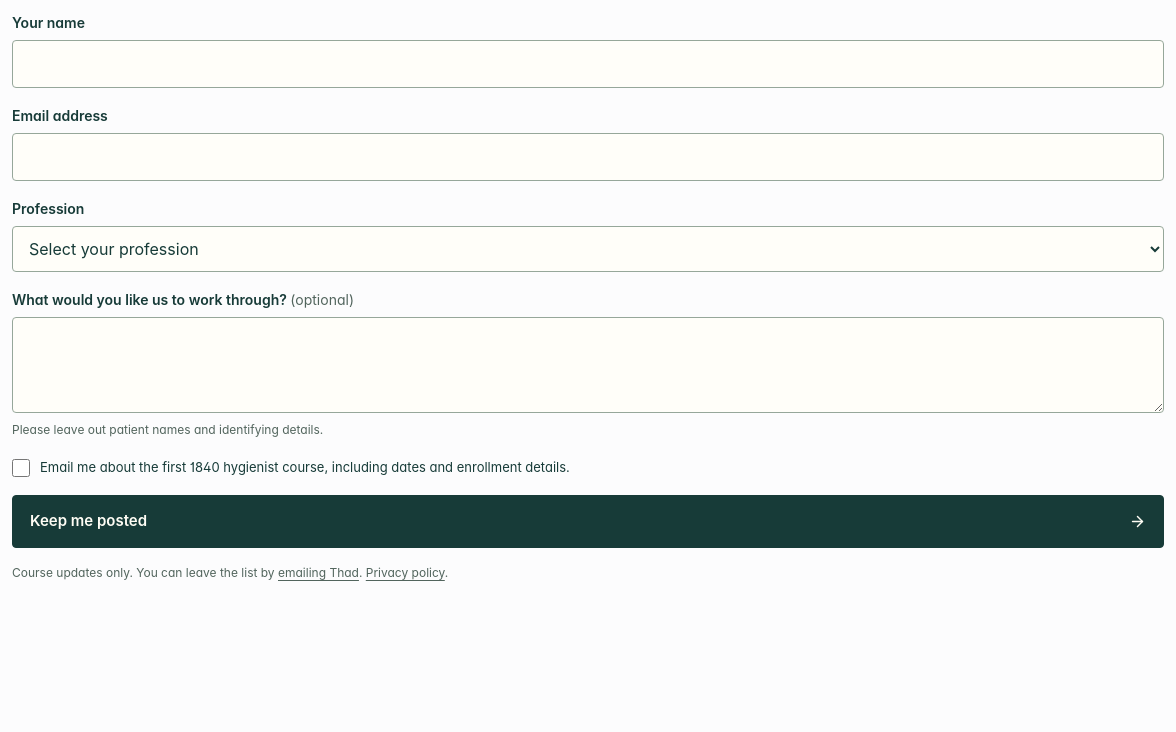
it: joining the first 1840 course interest list › preserves entries and allows retry after an unsuccessful HTTP response
The image size is (1176, 732).
Type "Alex Rivera" into the field labelled "Your name" at (588, 64), box [12,40,1164,88]
Type "alex@example.com" into the field labelled "Email address" at (588, 157), box [12,133,1164,181]
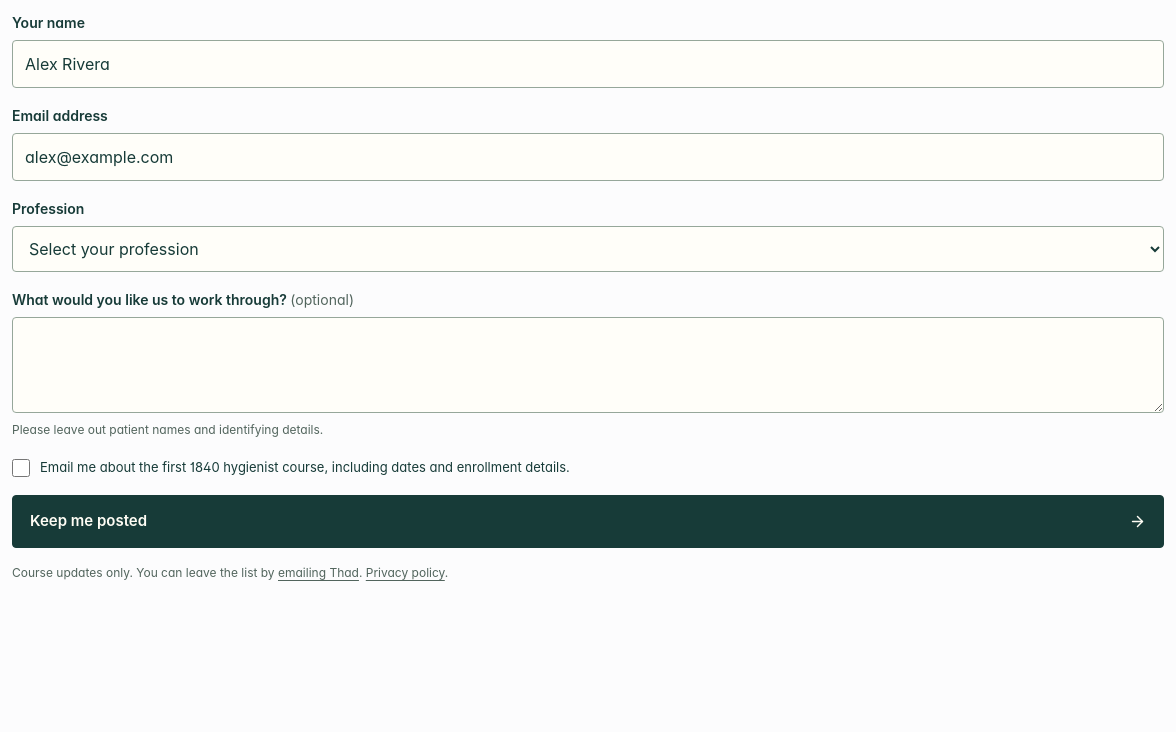
Select "Dental hygienist" in the dropdown labelled "Profession" at (588, 249), box [12,226,1164,272]
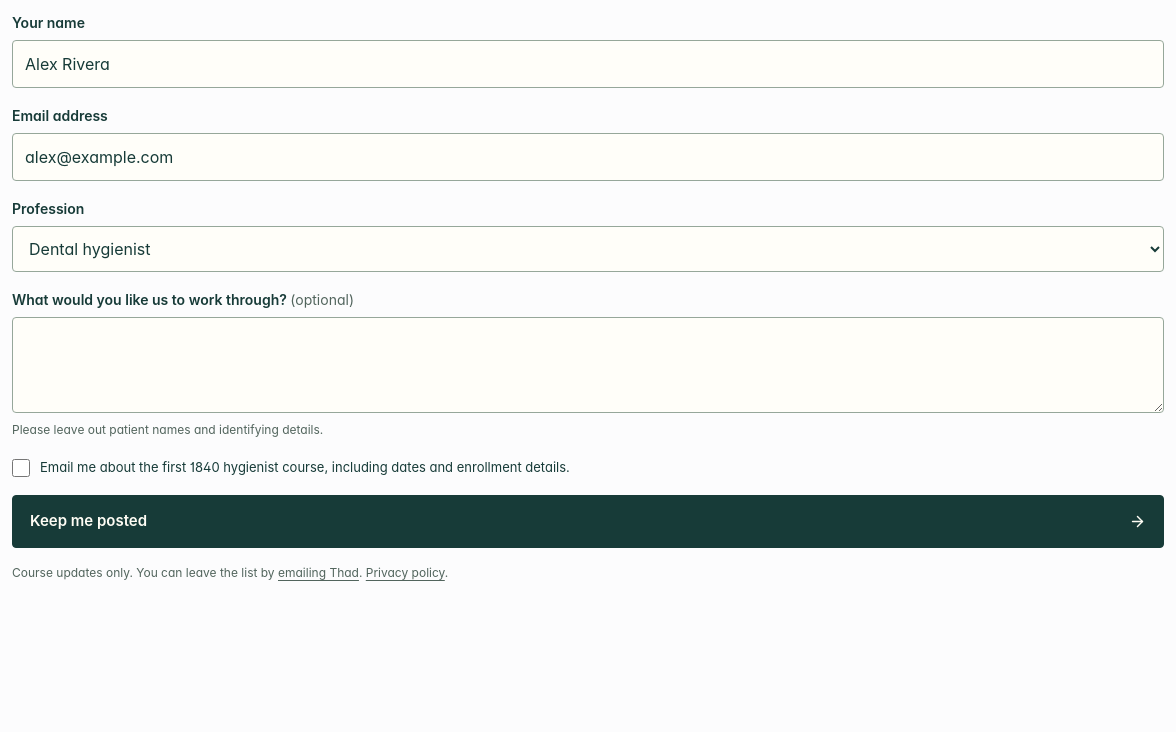
Type "How do we get a concern followed up between recall visits?" into the text box labelled "What would you like us to work through? (optional)" at (588, 365), box [12,317,1164,413]
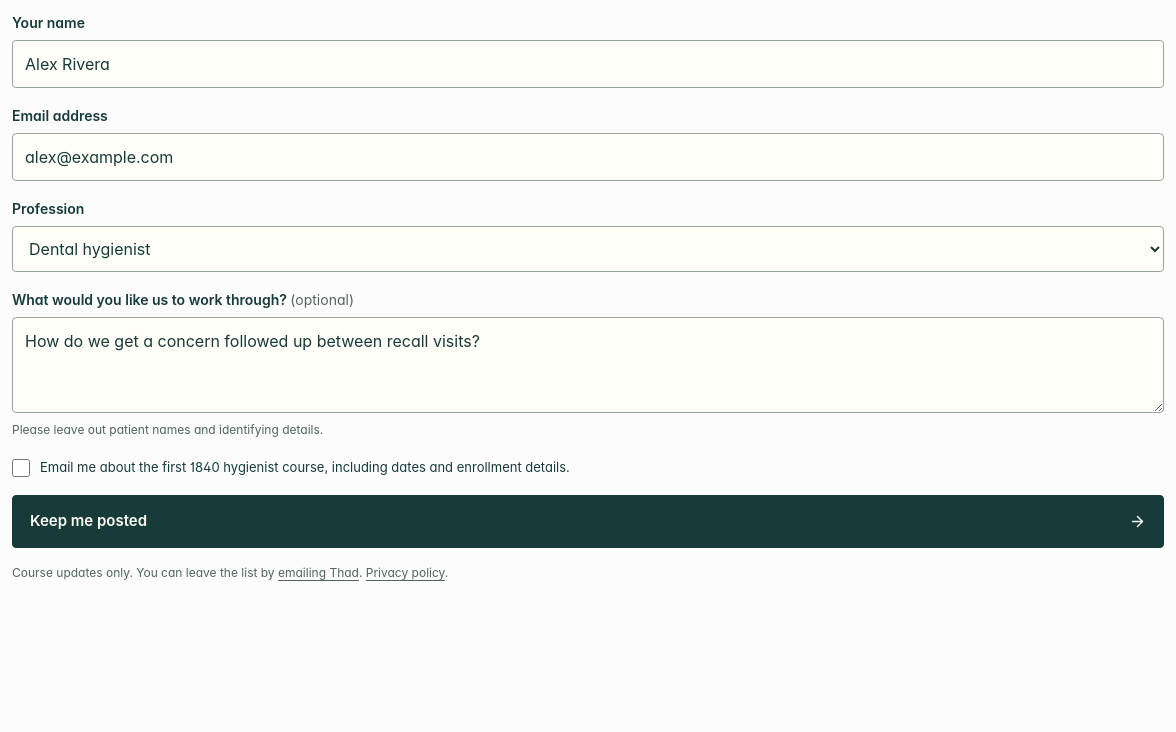
Click the checkbox labelled "Email me about the first 1840 hygienist course" at (21, 468), box [12,459,30,477]
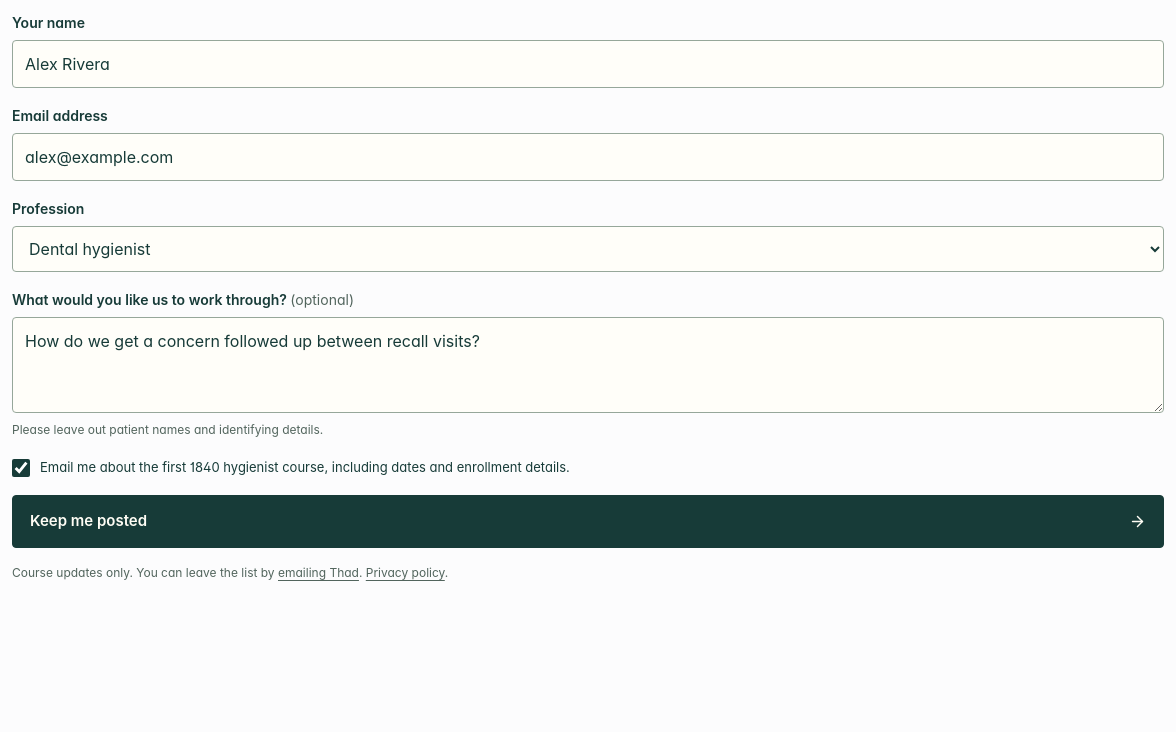
Click the button "Keep me posted" at (89, 521), box [12,495,1164,548]
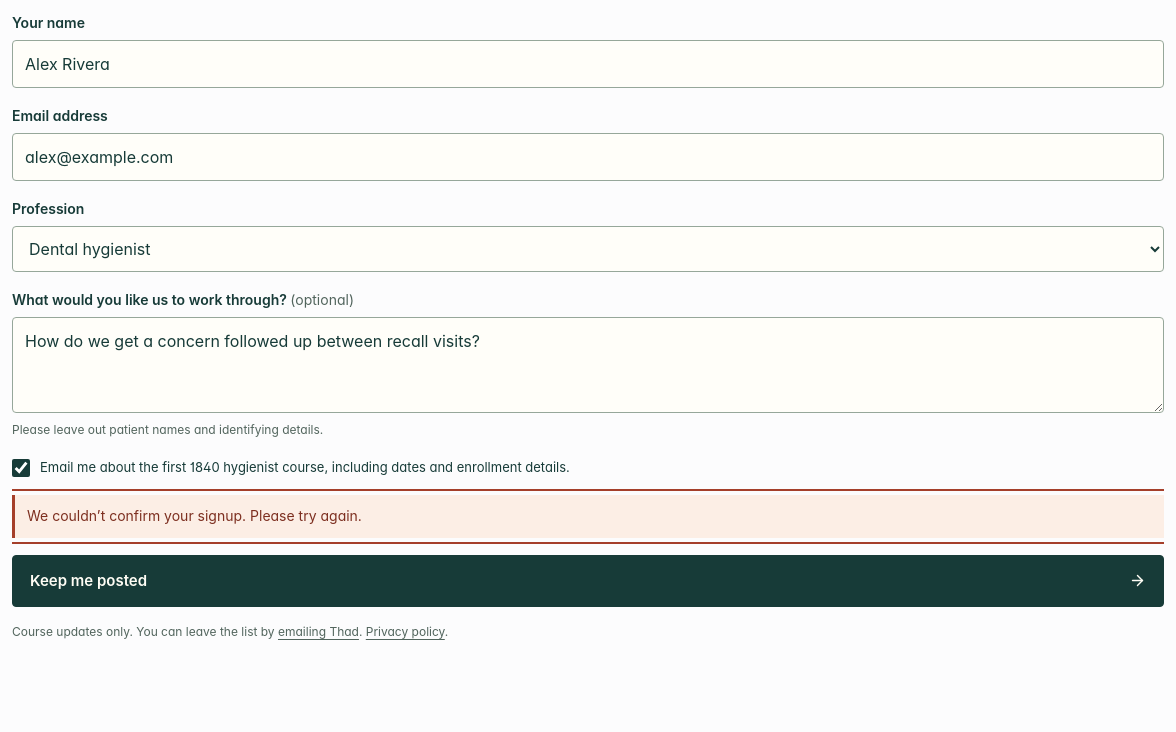
Check: the checkbox is checked, box [12,459,30,477]
Check: the message reads "We couldn’t confirm your signup. Please try again.", box [27,507,362,524]
Click the button "Keep me posted" at (89, 580), box [12,555,1164,607]
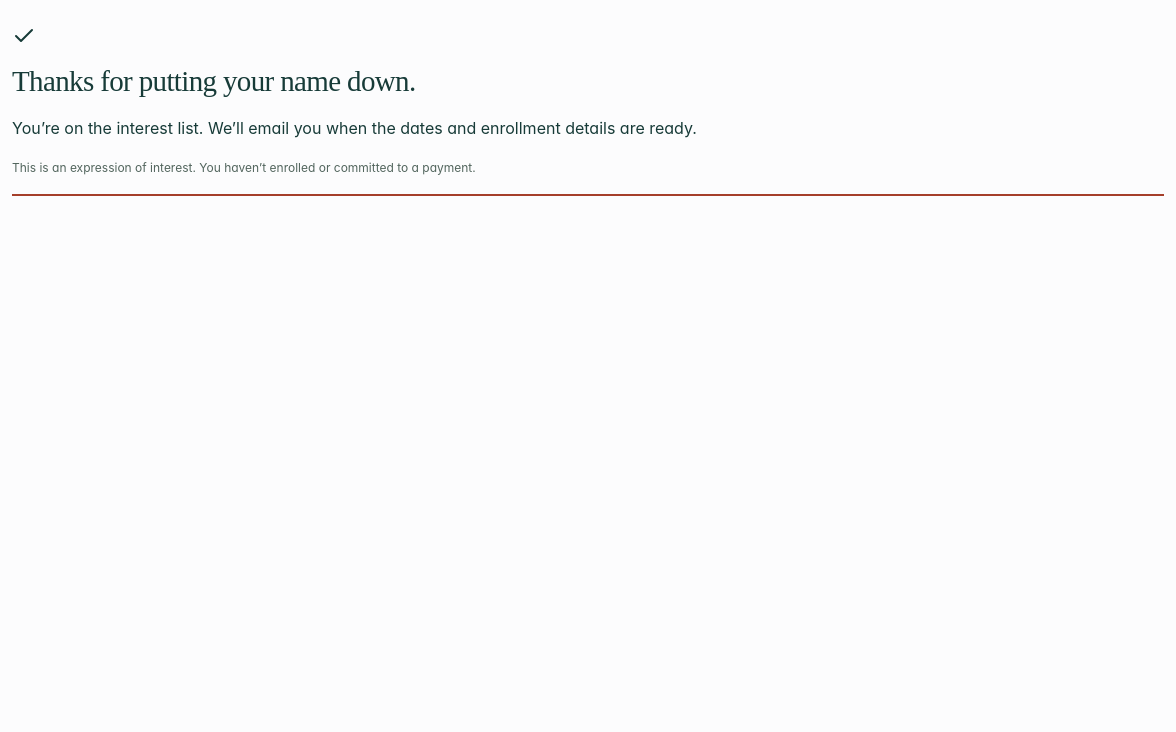
Check: the message is shown, box [12,24,697,175]
